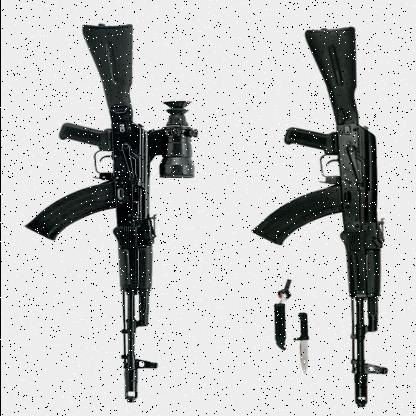rifle: (6, 22, 206, 408), (245, 26, 408, 396)
